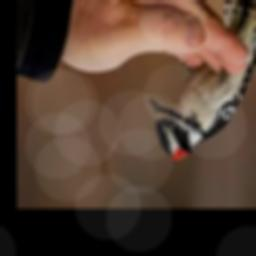Woodpecker: (148, 0, 256, 162)
